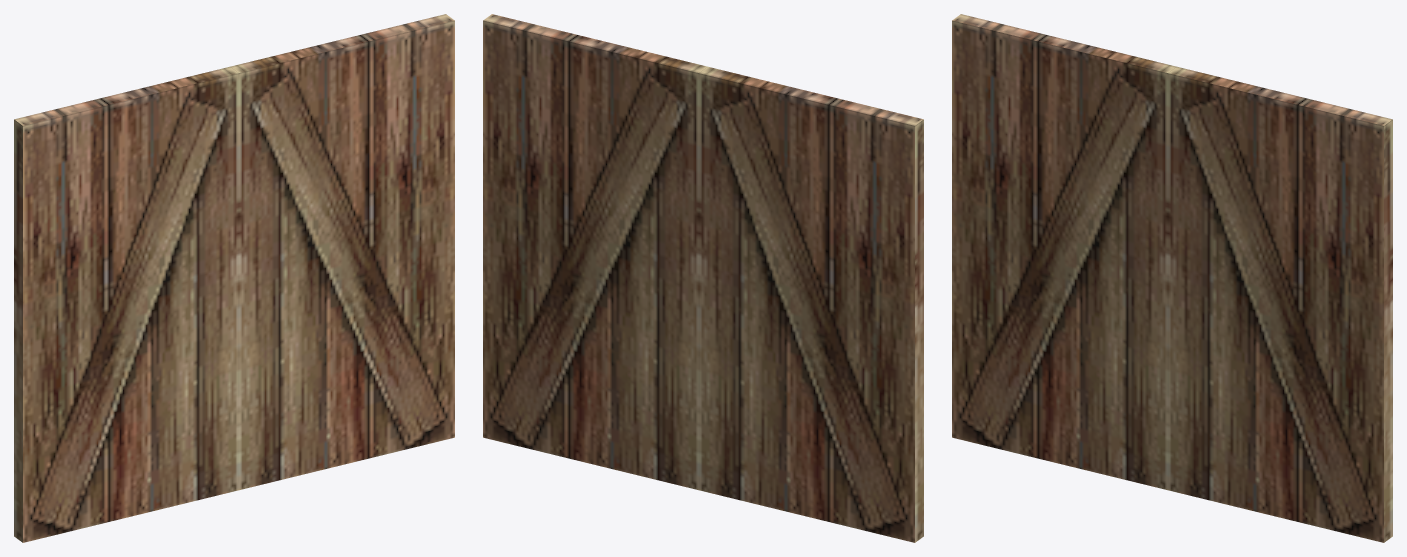
The model's file is iber_gate_door.dae.
3 renders of one model, left to right at view 1: azimuth 30°, elevation 25°; view 2: azimuth 150°, elevation 25°; view 3: azimuth 330°, elevation 25°, orthographic.
Parts seen in each view (by area): view 1: gate_doors01; view 2: gate_doors01; view 3: gate_doors01.
Part boxes in pixels (box(x1,y1,x2,y2)): gate_doors01: box(14, 14, 454, 542); gate_doors01: box(483, 14, 923, 542); gate_doors01: box(952, 14, 1392, 542).
Size of the model in its own units: 10.59 by 0.3781 by 9.77.
